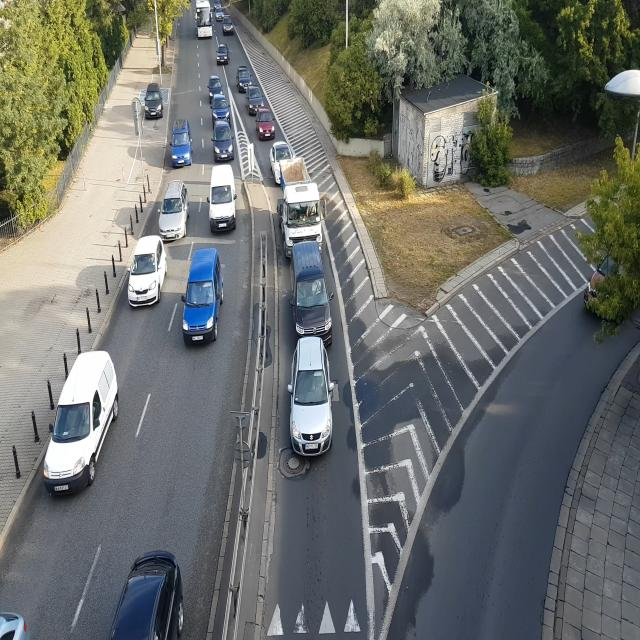bus: (195, 0, 213, 39)
car: (37, 349, 120, 506), (113, 552, 184, 640), (288, 340, 336, 464), (290, 244, 334, 338), (181, 252, 224, 348), (124, 241, 166, 307), (158, 180, 192, 242), (208, 165, 238, 235), (170, 118, 197, 172), (0, 611, 33, 640), (271, 136, 295, 174), (143, 85, 165, 120), (214, 127, 233, 165), (257, 108, 276, 144), (246, 81, 264, 111), (210, 88, 230, 113), (234, 62, 252, 88), (208, 73, 223, 94), (218, 41, 229, 62), (221, 14, 232, 32), (214, 7, 223, 19)
truck: (277, 162, 325, 255)
